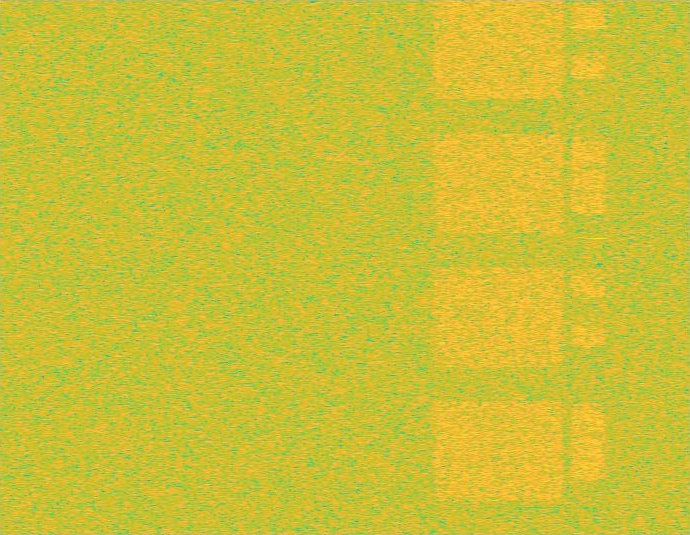5G: (430, 0, 568, 534)
LTE: (571, 0, 606, 534)
Radar: (591, 0, 605, 534)
